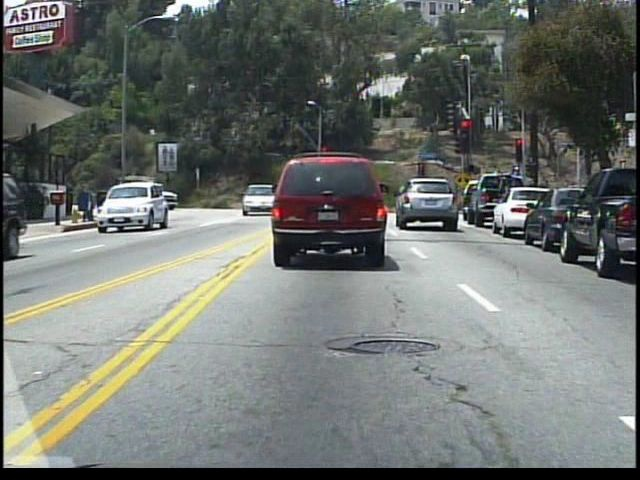person: (349, 186, 362, 212)
